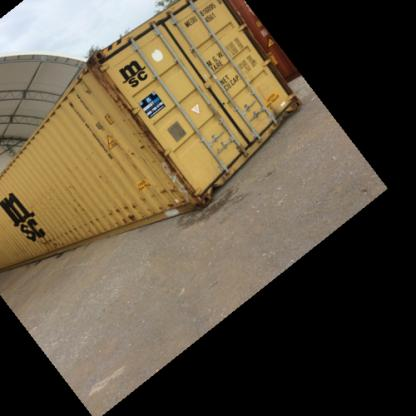Damage: (87, 44, 139, 124), (270, 86, 300, 122)
